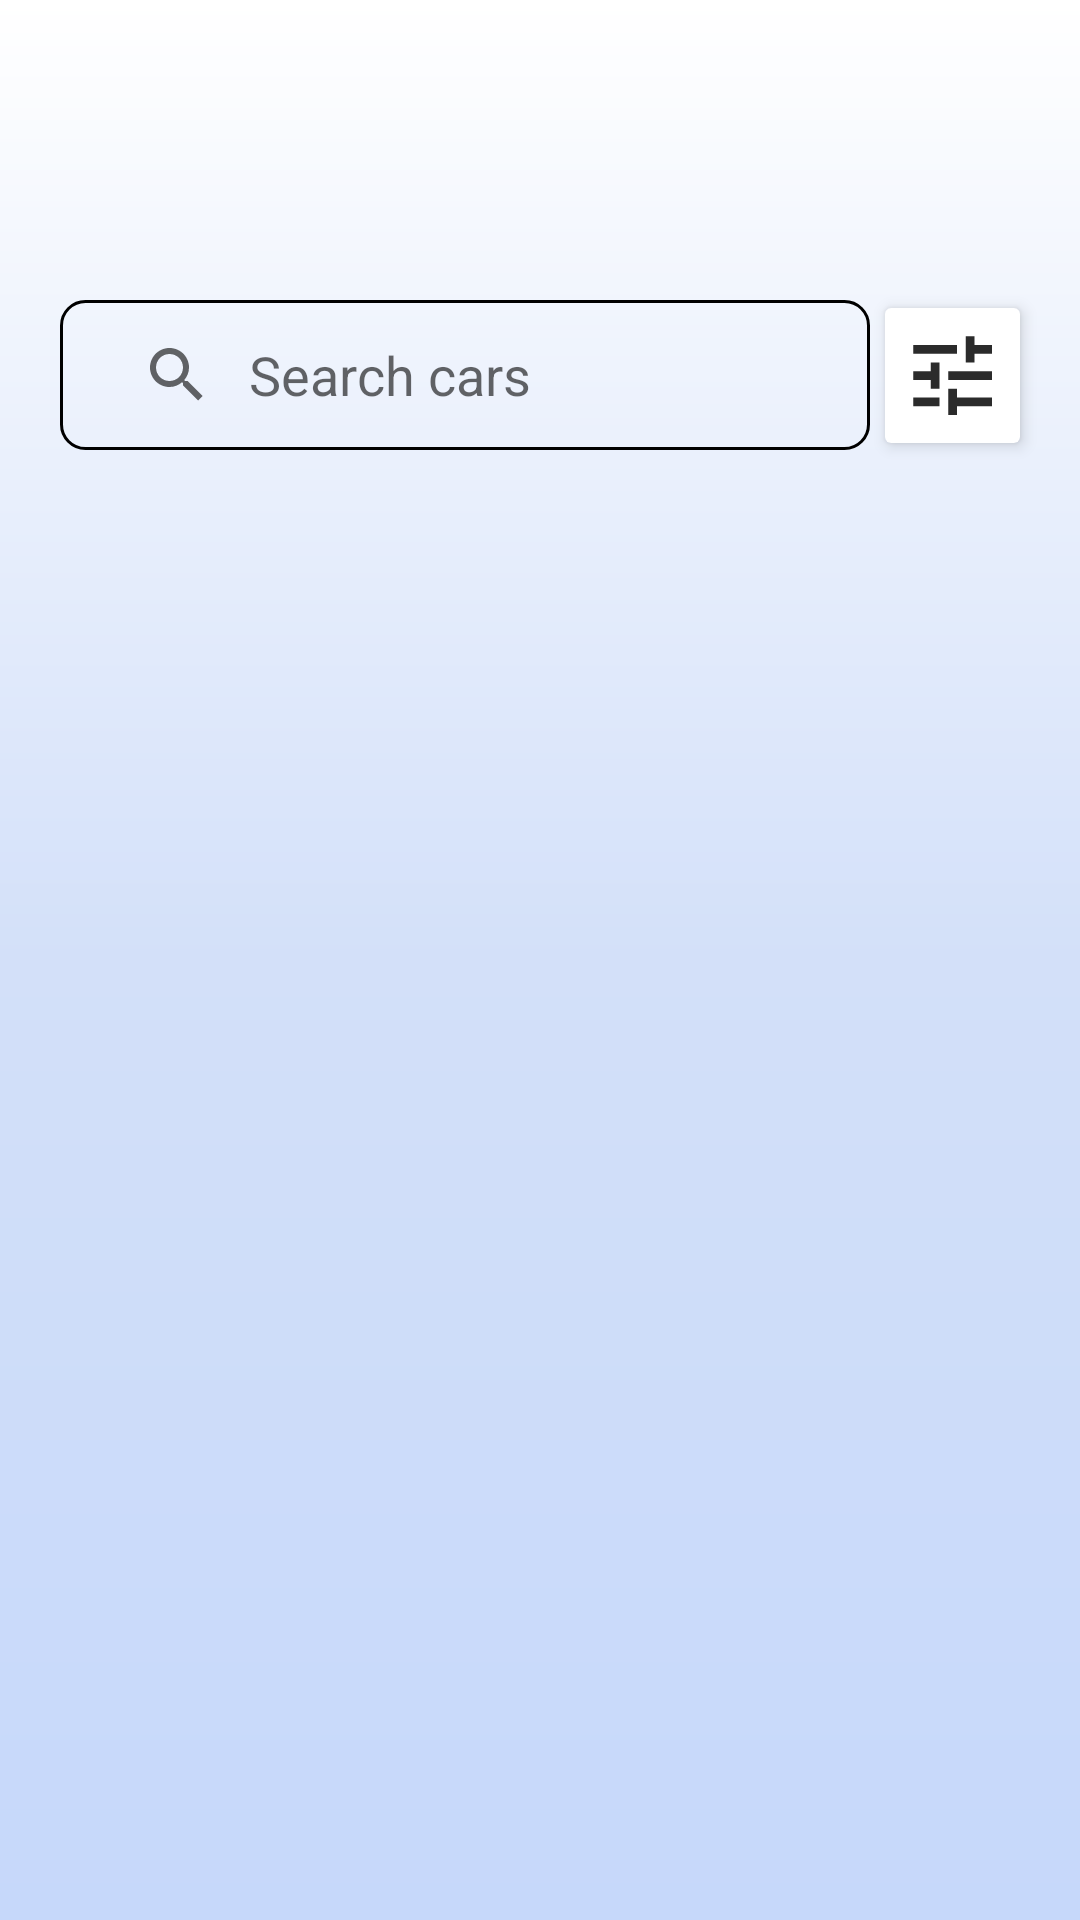

Icons on this 1080px x 1920px Android screen, each with its box as {"x1": x1, "y1": y1, "x2": x2, "y2": y2}:
tune: {"x1": 913, "y1": 336, "x2": 992, "y2": 415}
